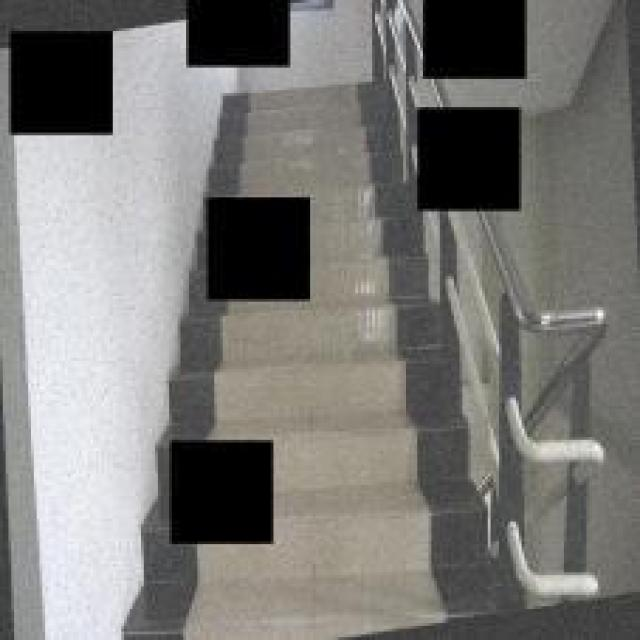upstair: (288, 311, 455, 613)
